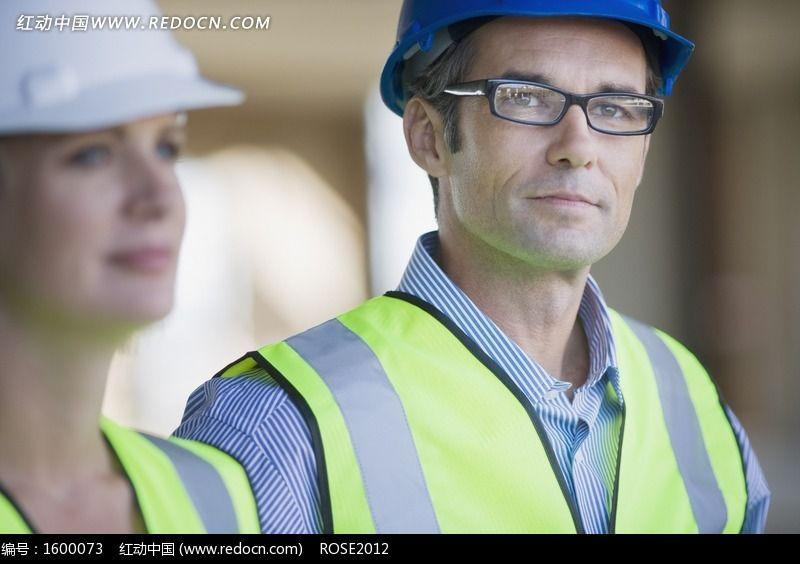helmet: (380, 1, 699, 120), (1, 1, 251, 139)
